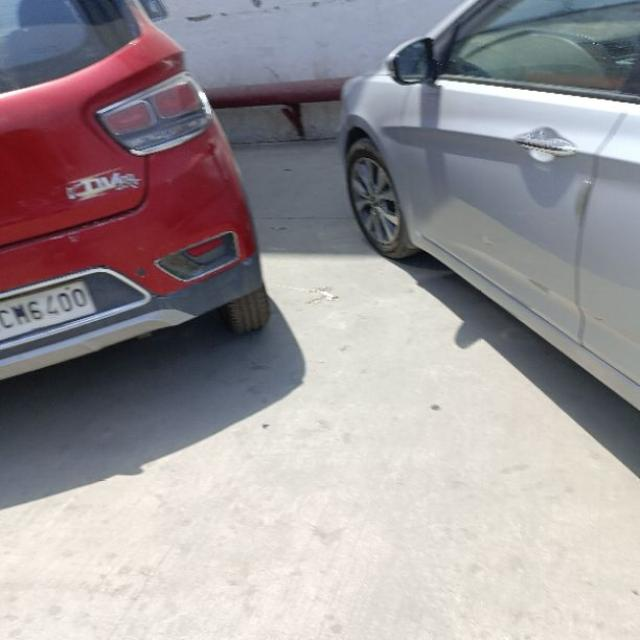license_plate: (0, 278, 97, 344)
